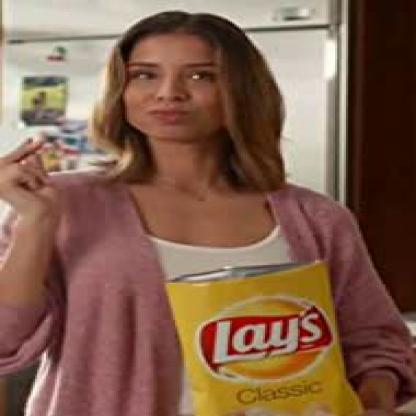potatochip: (164, 256, 361, 415)
